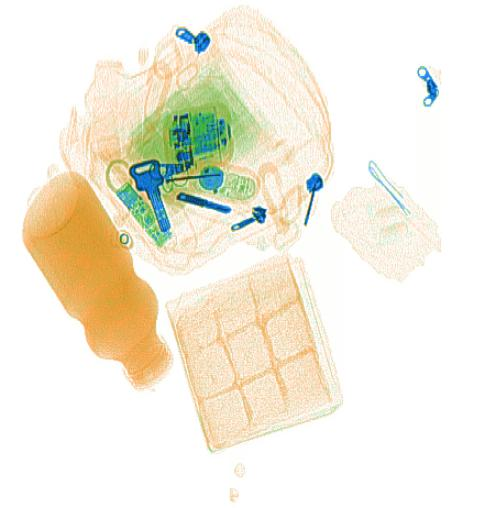USBFlashDisk: (114, 184, 172, 249)
